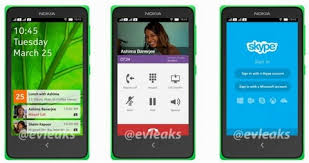nokia: (106, 4, 194, 163), (218, 3, 306, 162), (5, 1, 93, 159)
